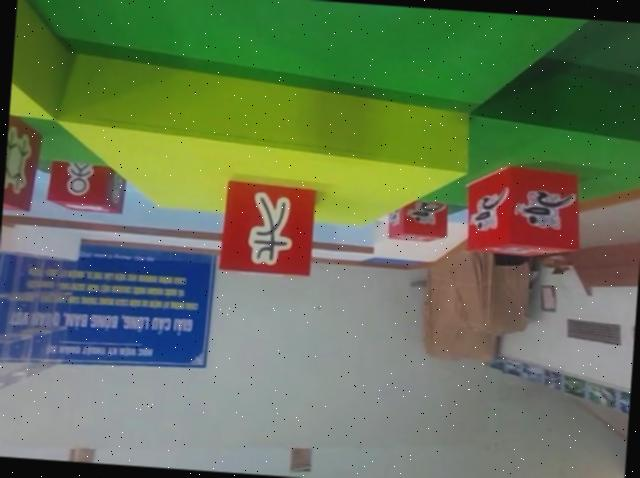R1: (461, 161, 585, 259), (384, 193, 451, 247)
R2 Fake: (219, 179, 316, 276)
R2 Real: (43, 154, 128, 218), (1, 113, 46, 215)
